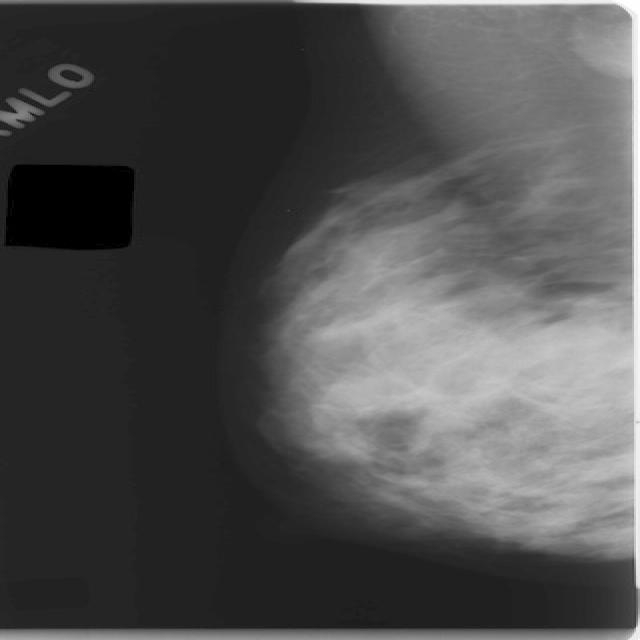tumour: (498, 312, 638, 414)
